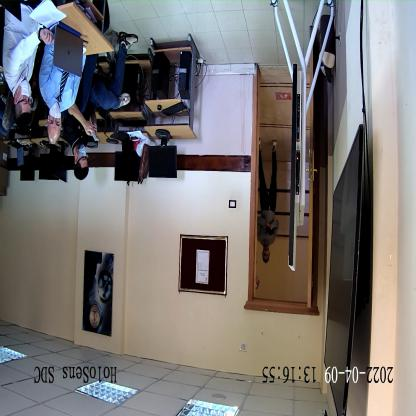handgun: (265, 223, 275, 236)
